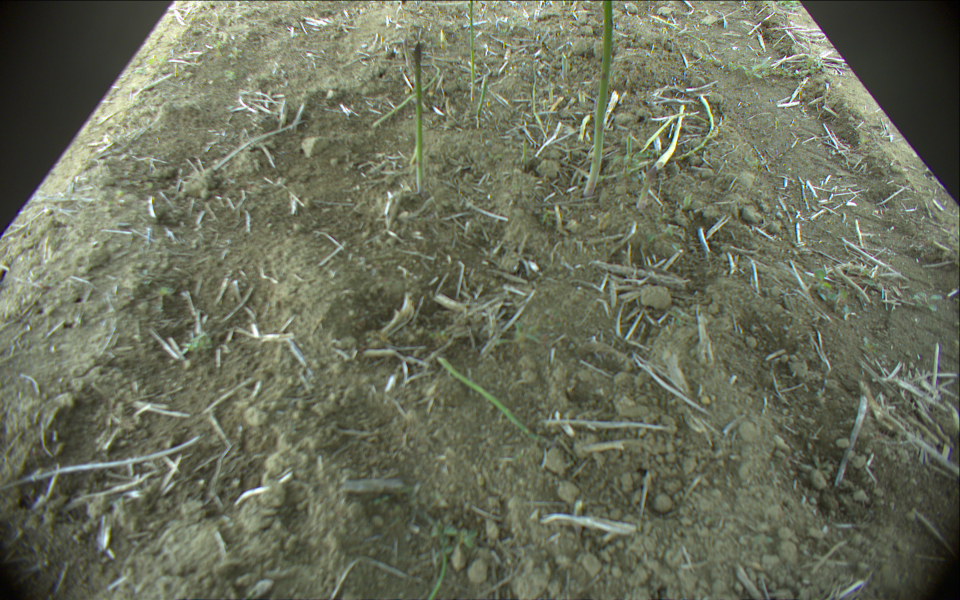aspa: (436, 355, 551, 445), (583, 1, 616, 195), (371, 61, 440, 129), (646, 103, 687, 177), (672, 95, 716, 161), (409, 41, 426, 193), (525, 48, 550, 136), (640, 113, 675, 153), (475, 71, 491, 127), (468, 1, 475, 101), (624, 130, 634, 160)
